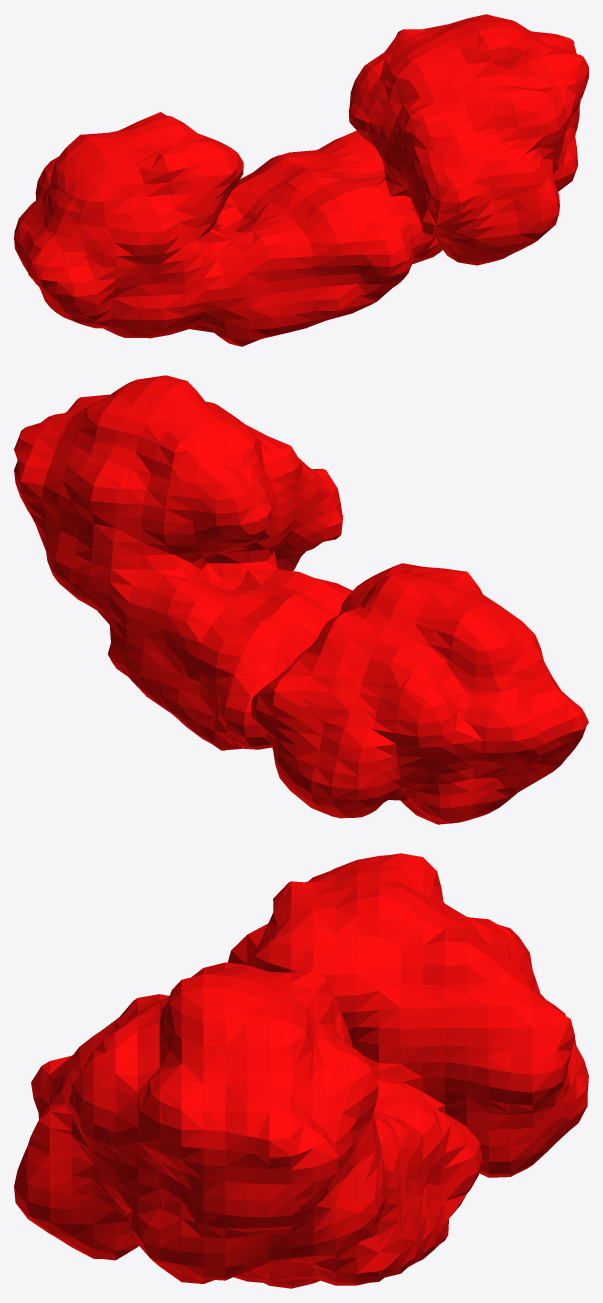
File: pepT_coarse.dae
3 renders of one model, top to bottom at view 1: azimuth 30°, elevation 25°; view 2: azimuth 150°, elevation 25°; view 3: azimuth 270°, elevation 25°, orthographic. The views are drawn at different scales.
Parts seen in each view (by area): view 1: pepT; view 2: pepT; view 3: pepT.
Boxes of the visible parts, x1=… form: pepT: x1=14, y1=14, x2=588, y2=346; pepT: x1=14, y1=375, x2=588, y2=824; pepT: x1=14, y1=853, x2=588, y2=1288.
Size of the model in its own units: 128 by 62.9 by 82.5.
